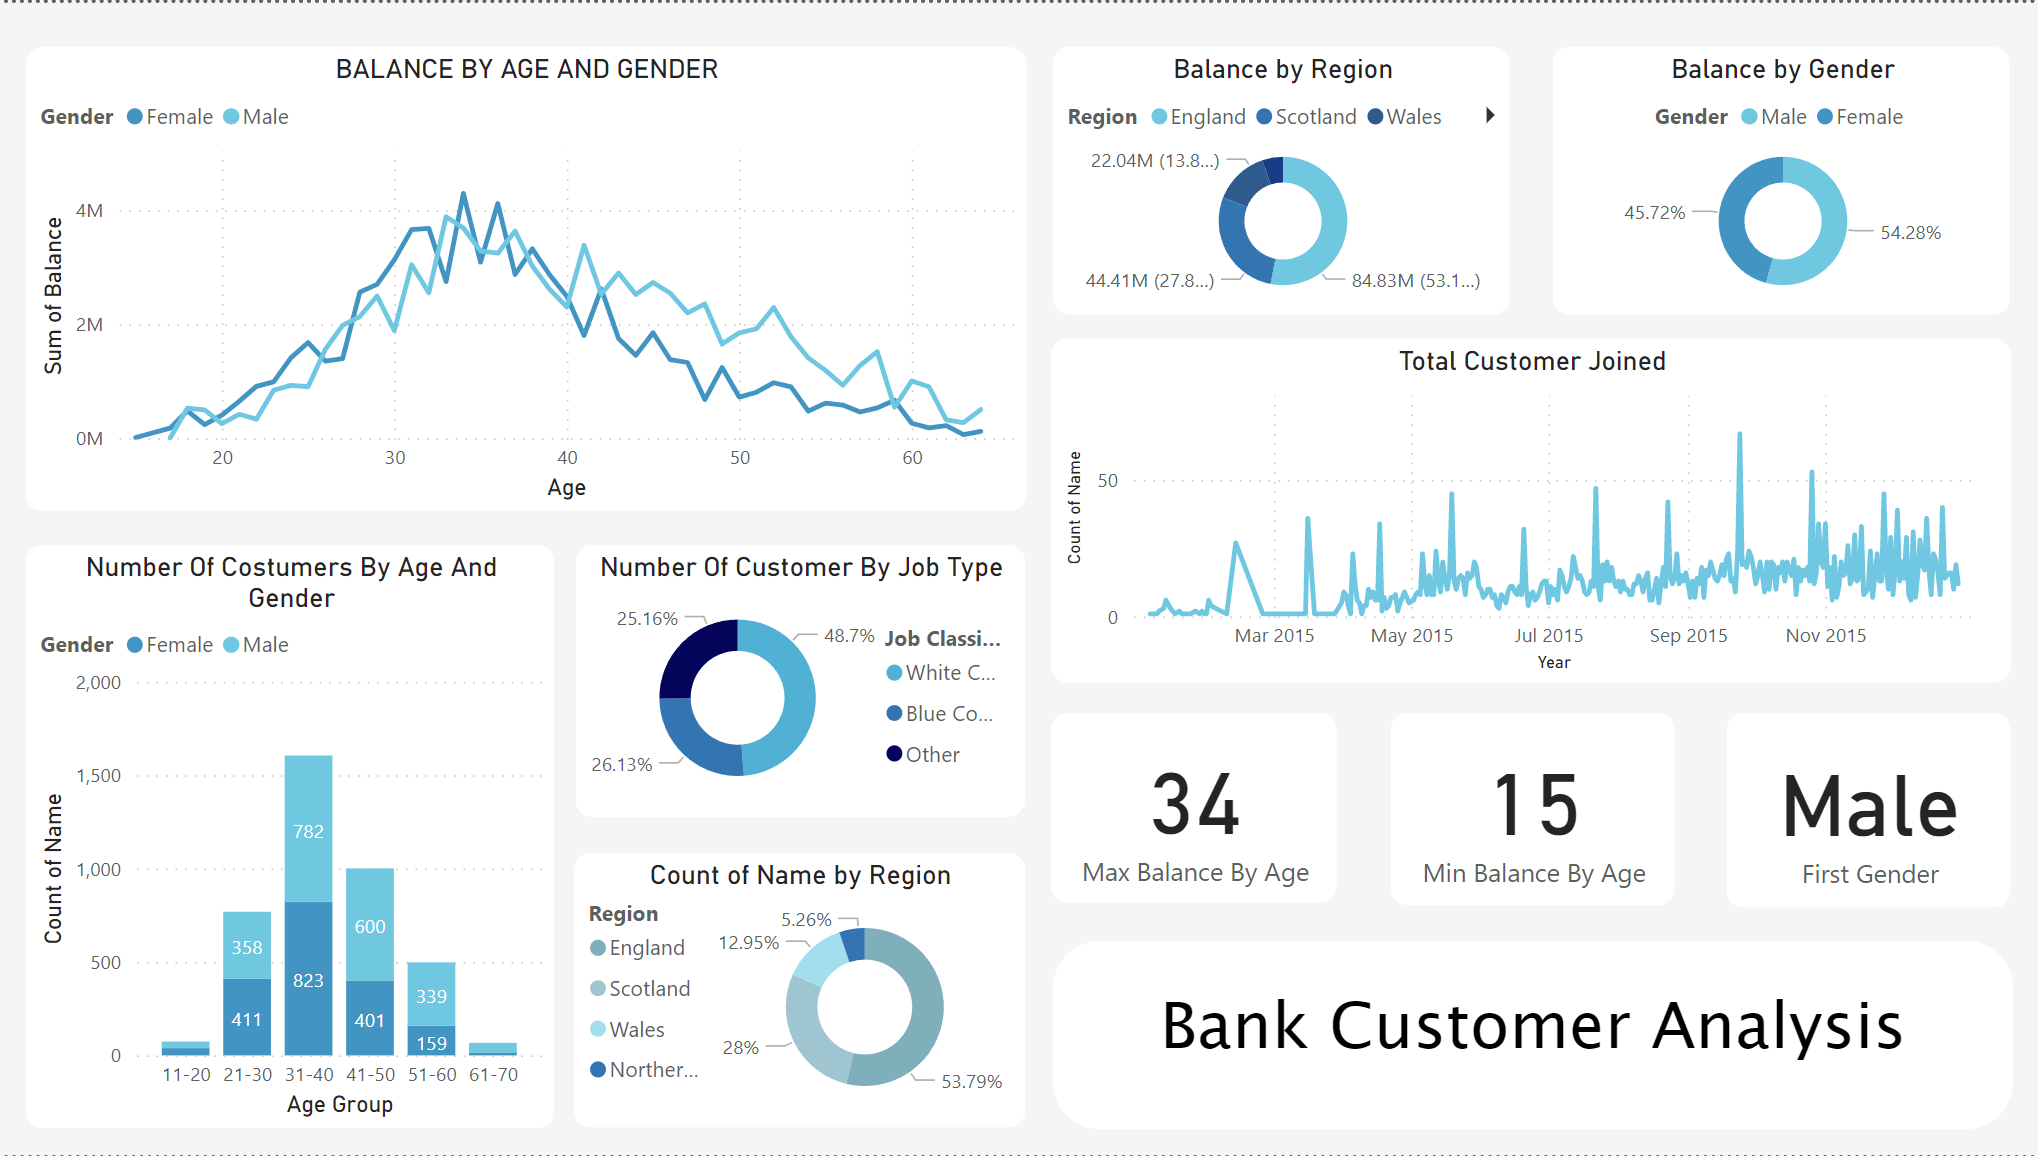

What the dashboard file says about the page in this screenshot:
{"tool":"powerbi","page":{"name":"Page 1","canvas":[1280,720],"ordinal":0},"visuals":[{"type":"lineChart","title":"BALANCE BY AGE AND GENDER","fields":{"Y":["Sum(Bank Data Analysis.Balance)"],"Category":["Bank Data Analysis.Age"],"Series":["Bank Data Analysis.Gender"]},"box":[15.7,27.1,624.3,290],"z":0},{"type":"columnChart","title":"Number Of Costumers By Age And Gender","fields":{"Category":["Bank Data Analysis.Age Group"],"Y":["CountNonNull(Bank Data Analysis.Name)"],"Series":["Bank Data Analysis.Gender"]},"box":[15.7,338.6,330,364.3],"z":1000},{"type":"donutChart","fields":{"Y":["CountNonNull(Bank Data Analysis.Name)"],"Category":["Bank Data Analysis.Region"]},"box":[358.6,531.4,281.4,171.4],"z":2000},{"type":"donutChart","title":"Balance by Region","fields":{"Y":["Sum(Bank Data Analysis.Balance)"],"Category":["Bank Data Analysis.Region"]},"box":[657.1,27.1,285.7,167.1],"z":3000},{"type":"donutChart","title":"Number Of Customer By Job Type ","fields":{"Category":["Bank Data Analysis.Job Classification"],"Y":["CountNonNull(Bank Data Analysis.Name)"]},"box":[360,338.6,280,170],"z":4000},{"type":"donutChart","title":"Balance by Gender","fields":{"Category":["Bank Data Analysis.Gender"],"Y":["Sum(Bank Data Analysis.Balance)"]},"box":[970,27.1,285.7,167.1],"z":5000},{"type":"lineChart","title":"Total Customer Joined","fields":{"Category":["Bank Data Analysis.Date Joined.Variation.Date Hierarchy.Year","Bank Data Analysis.Date Joined.Variation.Date Hierarchy.Quarter","Bank Data Analysis.Date Joined.Variation.Date Hierarchy.Month","Bank Data Analysis.Date Joined.Variation.Date Hierarchy.Day"],"Y":["CountNonNull(Bank Data Analysis.Name)"]},"box":[655.7,210,600,214.3],"z":6000},{"type":"card","fields":{"Values":["Max(Bank Data Analysis.Age)"]},"box":[655.7,444.3,178.6,118.6],"z":7000},{"type":"card","fields":{"Values":["Min(Bank Data Analysis.Age)"]},"box":[868.6,444.3,177.1,120],"z":8000},{"type":"card","fields":{"Values":["Min(Bank Data Analysis.Gender)"]},"box":[1078.6,444.3,177.1,121.4],"z":9000},{"type":"shape","box":[657.5,586.2,600,117.5],"z":9001}]}

Visuals, with their boxes in screenshot pixels (x1, y1, x2, y2), scaled from the page's 1280x720 canvas onto the 2038x1156 screenshot:
"BALANCE BY AGE AND GENDER" lineChart: (x1=25, y1=44, x2=1019, y2=509)
"Number Of Costumers By Age And Gender" columnChart: (x1=25, y1=544, x2=550, y2=1129)
donutChart - CountNonNull(Bank Data Analysis.Name) x Bank Data Analysis.Region: (x1=571, y1=853, x2=1019, y2=1128)
"Balance by Region" donutChart: (x1=1046, y1=44, x2=1501, y2=312)
"Number Of Customer By Job Type " donutChart: (x1=573, y1=544, x2=1019, y2=817)
"Balance by Gender" donutChart: (x1=1544, y1=44, x2=1999, y2=312)
"Total Customer Joined" lineChart: (x1=1044, y1=337, x2=1999, y2=681)
card - Max(Bank Data Analysis.Age): (x1=1044, y1=713, x2=1328, y2=904)
card - Min(Bank Data Analysis.Age): (x1=1383, y1=713, x2=1665, y2=906)
card - Min(Bank Data Analysis.Gender): (x1=1717, y1=713, x2=1999, y2=908)
shape: (x1=1047, y1=941, x2=2002, y2=1130)
